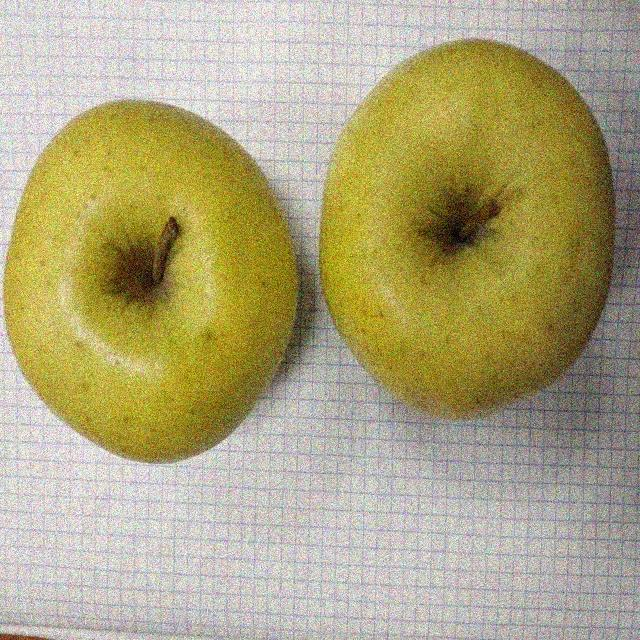green apple: (316, 34, 617, 429), (2, 98, 300, 464)
